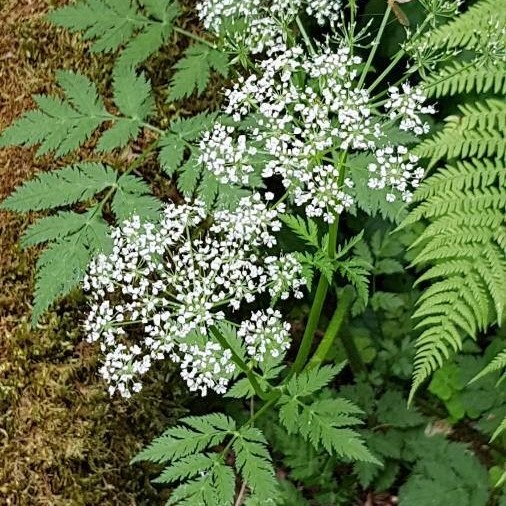obstacle: (84, 199, 358, 488), (16, 4, 156, 299), (204, 37, 389, 222), (399, 44, 482, 388)
